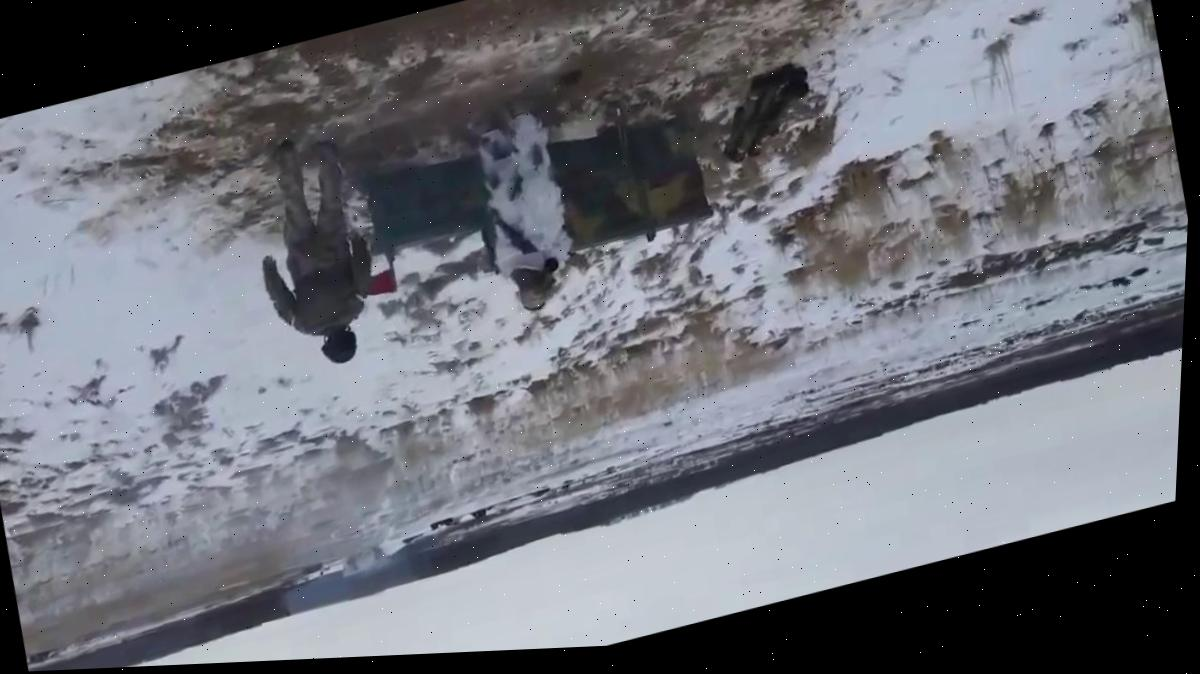person: (228, 124, 397, 381), (451, 95, 591, 324)
